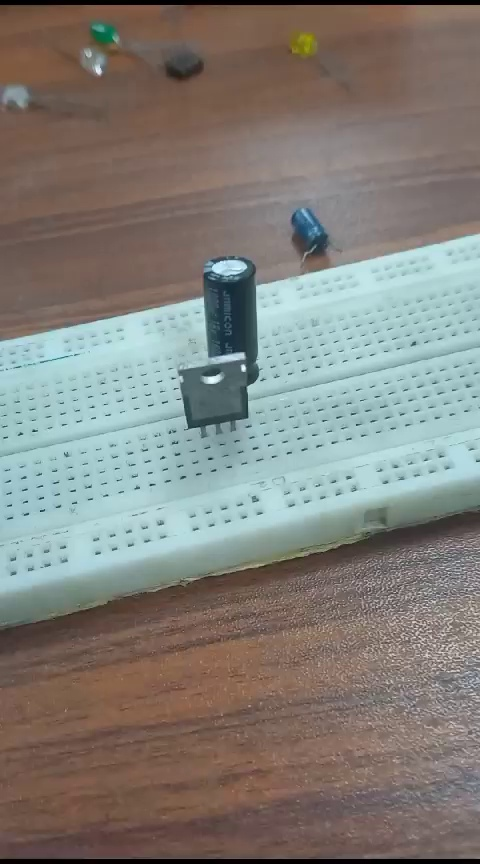capacitor: (191, 259, 266, 348)
voltage regulator: (166, 361, 266, 424)
